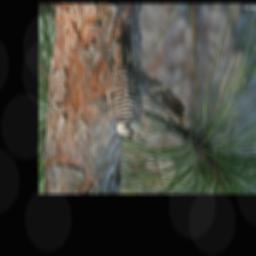Woodpecker: (96, 17, 148, 142)
